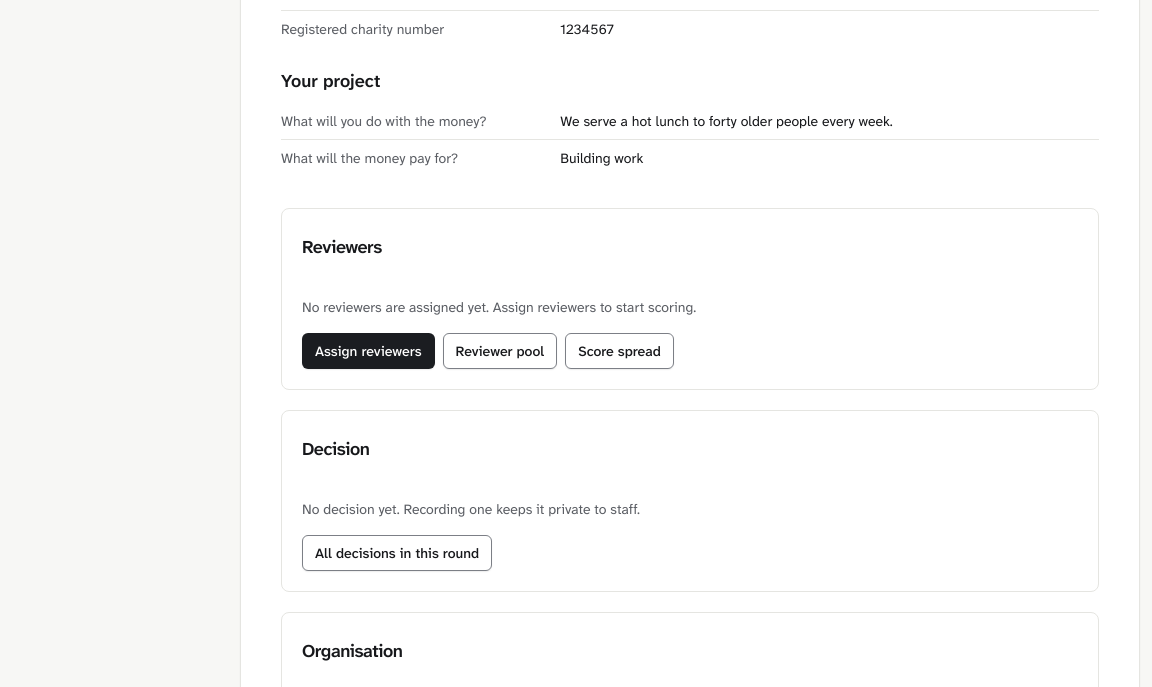
Test: a submission's reviewers › assigns the reviewers chosen, leaving out those already assigned, and reads the list again
The image size is (1152, 687).
(page scrolled)
What coordinates should you click on to do the following:
click the button "Assign reviewers"
I would click on:
 (368, 351)
Its box is 302,333 -> 434,369.
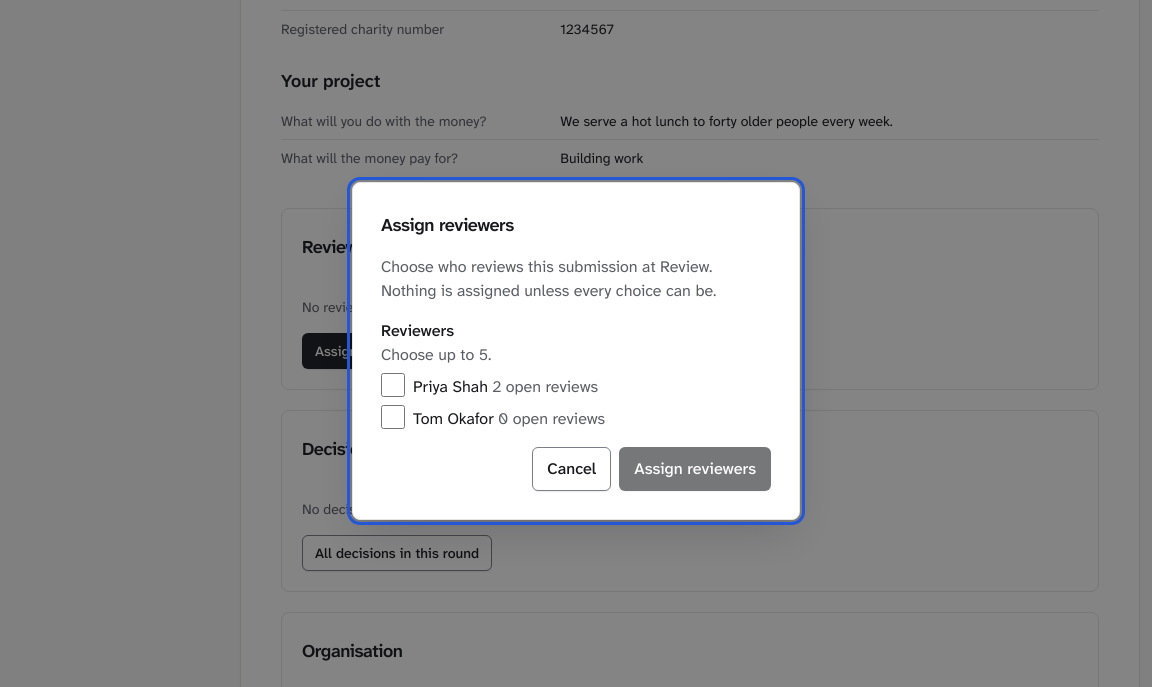
Expected: the text "Choose who reviews this submission at Review" is shown, 381,256 -> 716,301
Expected: the element "Priya Shah 2 open reviews" is shown, 381,373 -> 598,397
What coordinates should you click on to do the following:
click the checkbox labelled "Tom Okafor 0 open reviews"
I would click on:
 (393, 417)
Its box is 381,405 -> 405,429.
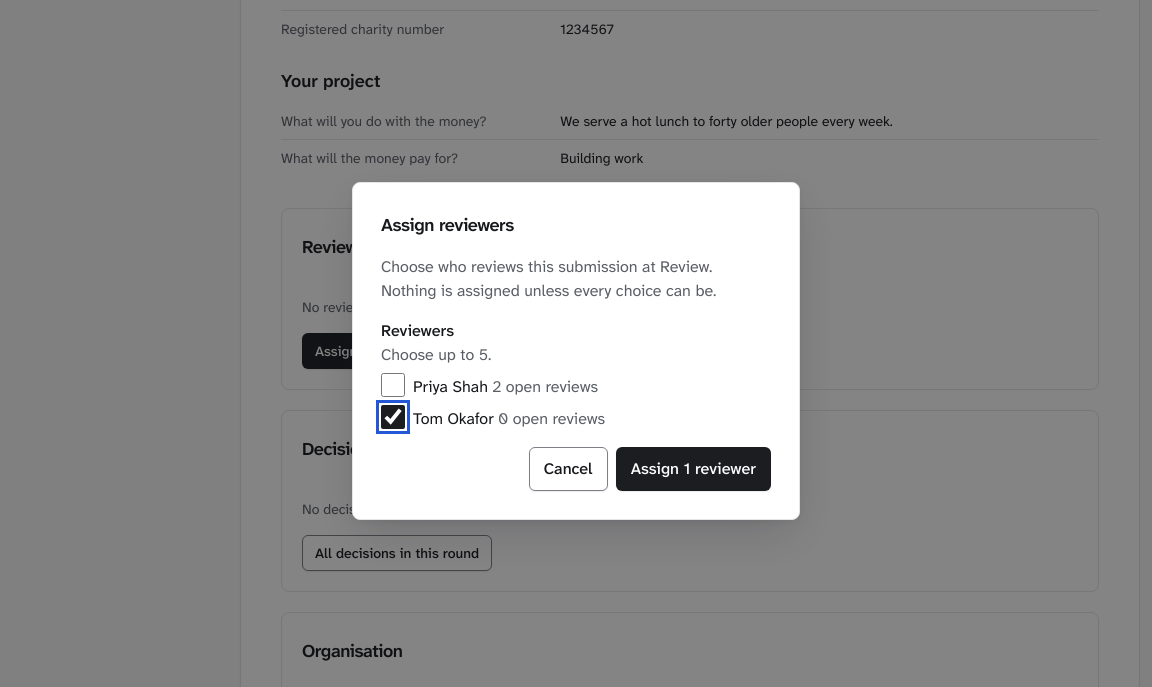
What coordinates should you click on to do the following:
click the button "Assign 1 reviewer"
I would click on:
 (693, 469)
Its box is 616,447 -> 771,491.
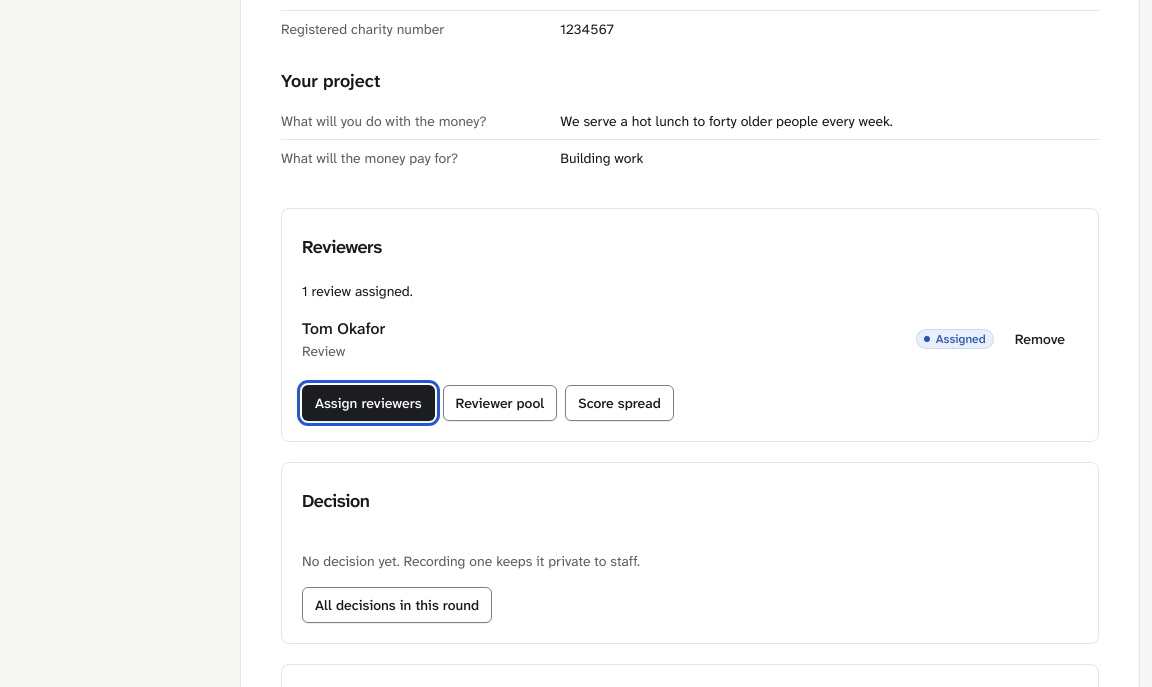
Expected: the text "1 review assigned." is shown, 302,282 -> 413,300
Expected: the dialog is gone
